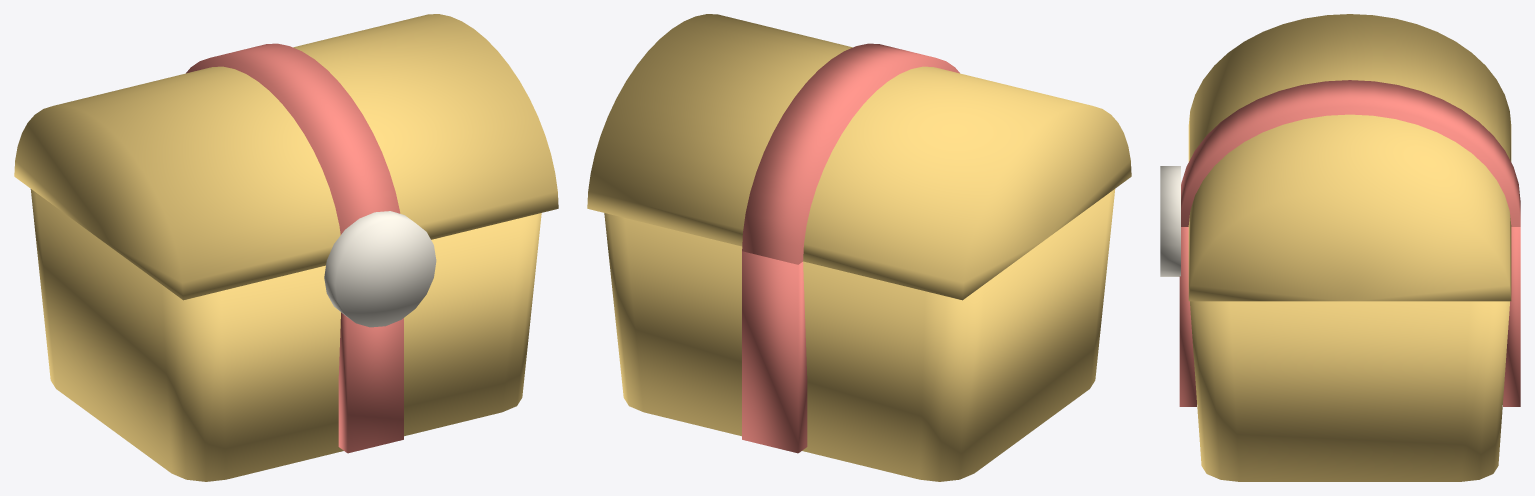
The model's file is lootbox-v1.glb.
3 renders of one model, left to right at view 1: azimuth 30°, elevation 25°; view 2: azimuth 150°, elevation 25°; view 3: azimuth 270°, elevation 25°, orthographic. The views are drawn at different scales.
Parts seen in each view (by area): view 1: LootLid, LootBody, LootLidStrap, LootEmblem, LootTrim; view 2: LootLid, LootBody, LootLidStrap, LootTrim; view 3: LootLid, LootBody, LootLidStrap, LootTrim, LootEmblem.
Boxes of the visible parts, x1,y1,x2,y2 form: LootLid: [14, 14, 558, 300]; LootBody: [30, 189, 541, 481]; LootLidStrap: [186, 43, 400, 234]; LootEmblem: [324, 211, 436, 327]; LootTrim: [338, 312, 403, 453]; LootLid: [587, 14, 1131, 300]; LootBody: [604, 189, 1115, 481]; LootLidStrap: [742, 43, 959, 264]; LootTrim: [742, 251, 807, 453]; LootLid: [1188, 14, 1511, 301]; LootBody: [1190, 301, 1509, 481]; LootLidStrap: [1181, 80, 1520, 226]; LootTrim: [1179, 227, 1520, 406]; LootEmblem: [1160, 166, 1180, 276].
Size of the model in its own units: 1 by 0.822 by 0.87.
